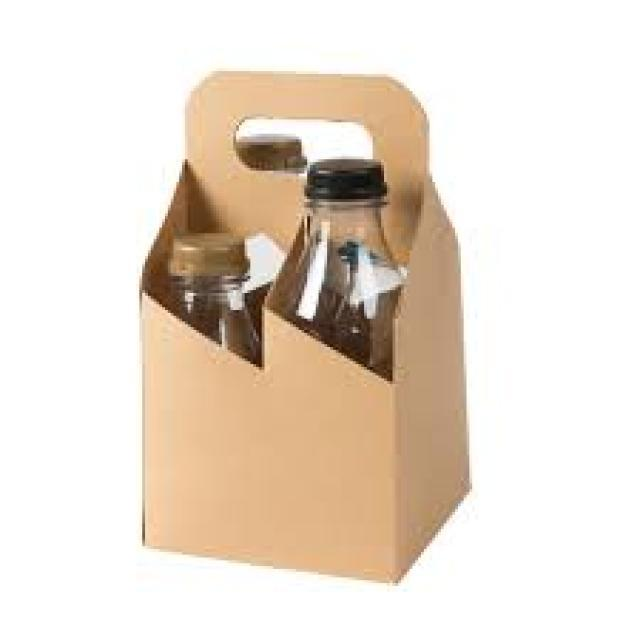Cardboard Paper: (96, 47, 500, 605)
